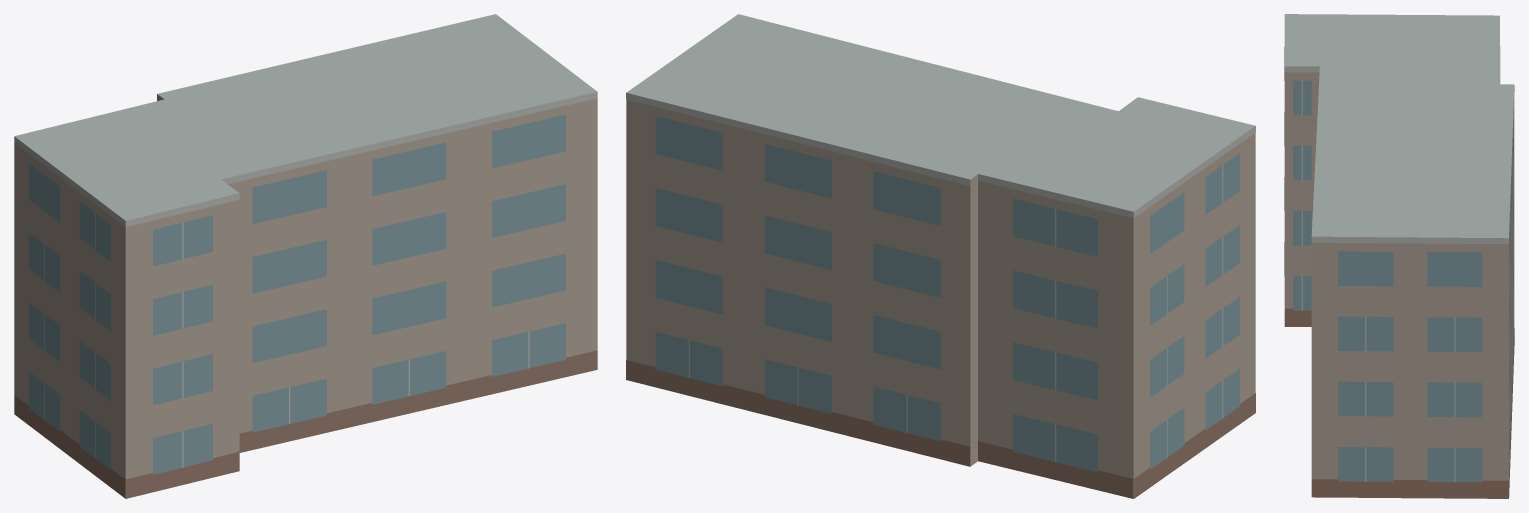
The model's file is survey-upis-32732164.glb.
3 views of the same model, side by side, from view 1: azimuth 30°, elevation 25°; view 2: azimuth 150°, elevation 25°; view 3: azimuth 270°, elevation 25° (orthographic). The views are drawn at different scales.
Parts seen in each view (by area): view 1: survey-upis-32732164.tmp; view 2: survey-upis-32732164.tmp; view 3: survey-upis-32732164.tmp.
Part boxes in pixels (left/top/right/bottom): survey-upis-32732164.tmp: left=14, top=14, right=597, bottom=498; survey-upis-32732164.tmp: left=626, top=14, right=1255, bottom=498; survey-upis-32732164.tmp: left=1284, top=14, right=1514, bottom=498.
Bounding box in the file's own units: 19.5 × 10.57 × 8.45.
